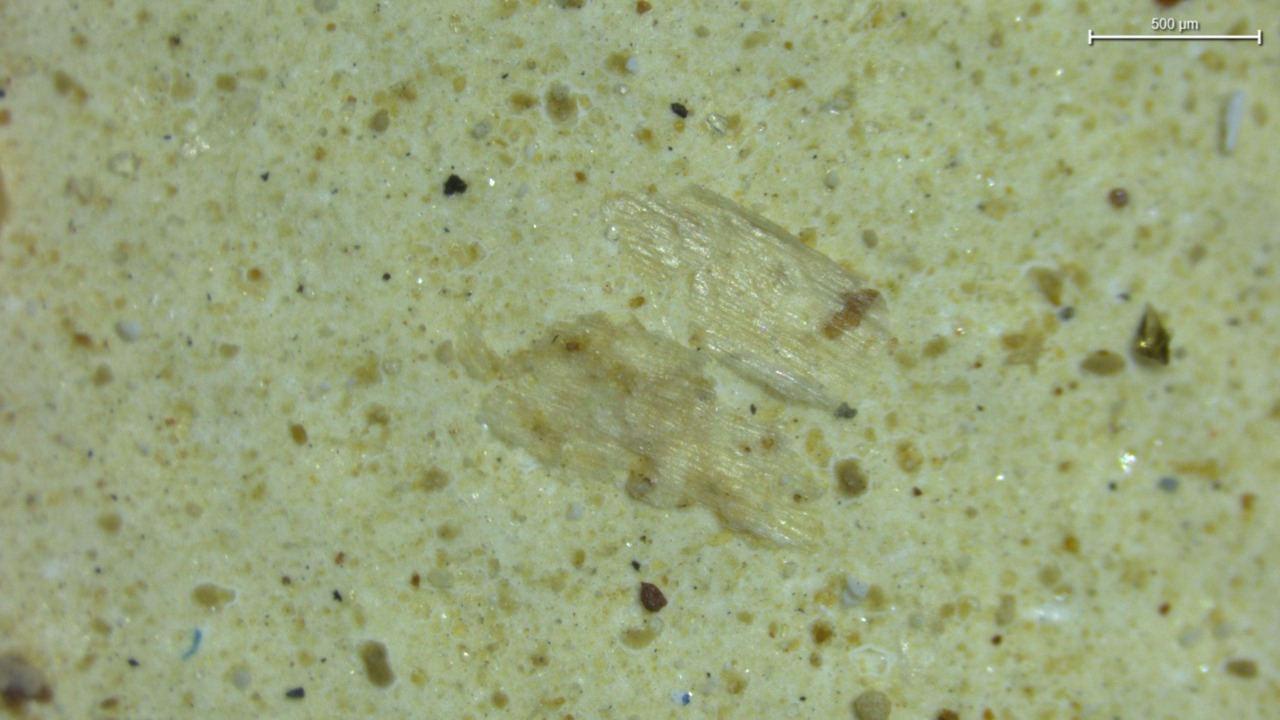microplastic_fragment: (482, 316, 818, 545), (605, 186, 888, 407)
